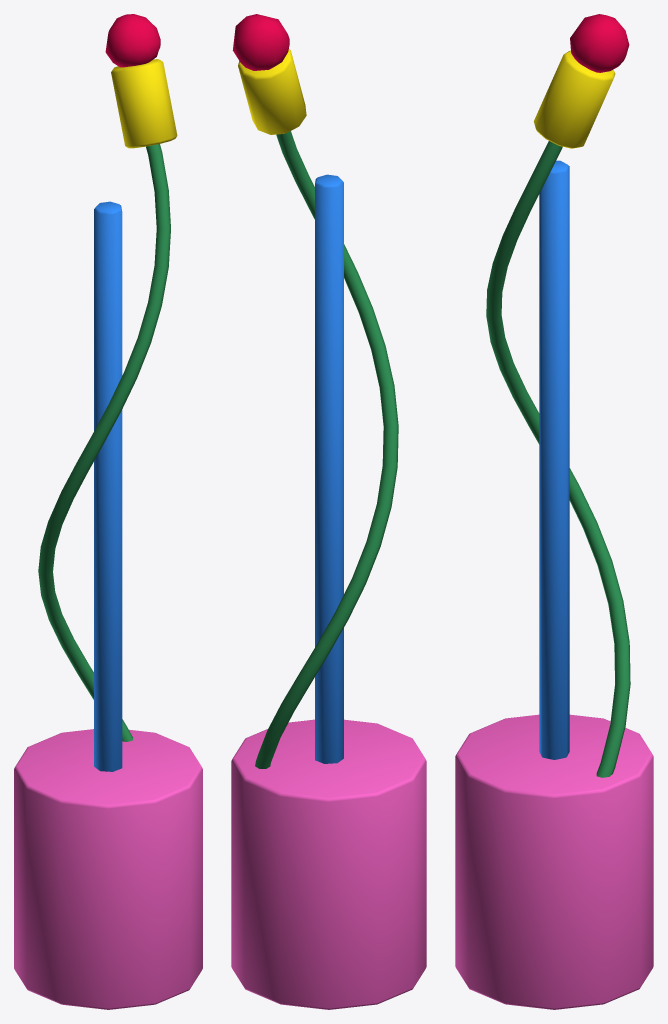
The model's file is Sinerpica2.glb.
The picture shows the model from 3 angles, left to right: view 1: azimuth 30°, elevation 25°; view 2: azimuth 150°, elevation 25°; view 3: azimuth 270°, elevation 25°; orthographic projection. The views are drawn at different scales.
Visible parts, largest first — view 1: Base, stem, Vine, Bell, Sphere; view 2: Base, stem, Vine, Bell, Sphere; view 3: Base, stem, Vine, Bell, Sphere.
Boxes of the visible parts, bbox=[...] form: Base: bbox=[14, 729, 202, 1009]; stem: bbox=[94, 201, 122, 771]; Vine: bbox=[38, 144, 170, 741]; Bell: bbox=[111, 59, 177, 148]; Sphere: bbox=[105, 14, 160, 67]; Base: bbox=[231, 719, 426, 1009]; stem: bbox=[315, 174, 343, 763]; Vine: bbox=[255, 131, 398, 768]; Bell: bbox=[238, 49, 306, 134]; Sphere: bbox=[232, 14, 289, 70]; Base: bbox=[455, 714, 653, 1009]; stem: bbox=[539, 160, 569, 759]; Vine: bbox=[486, 141, 630, 777]; Bell: bbox=[533, 50, 615, 148]; Sphere: bbox=[570, 14, 629, 72].
Size of the model in its own units: 0.35 by 1.9 by 0.35.
